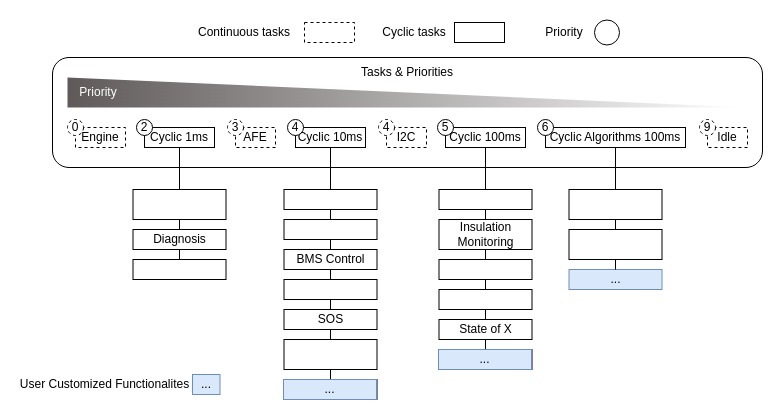
This 780x417 diagram has some shape labels left out. Each missing label, with the centre of its shape:
Advanced User Algorithms: the point at 615,244
Balancing: the point at 485,199
CAN RX: the point at 179,269
CAN TX: the point at 330,289
Measurement Validation: the point at 330,354
Moving Averages: the point at 615,204
State of Charge: the point at 485,269
State of Health: the point at 485,299
Supply Check: the point at 330,199
System Control: the point at 330,229
V & T Measurement: the point at 179,204
